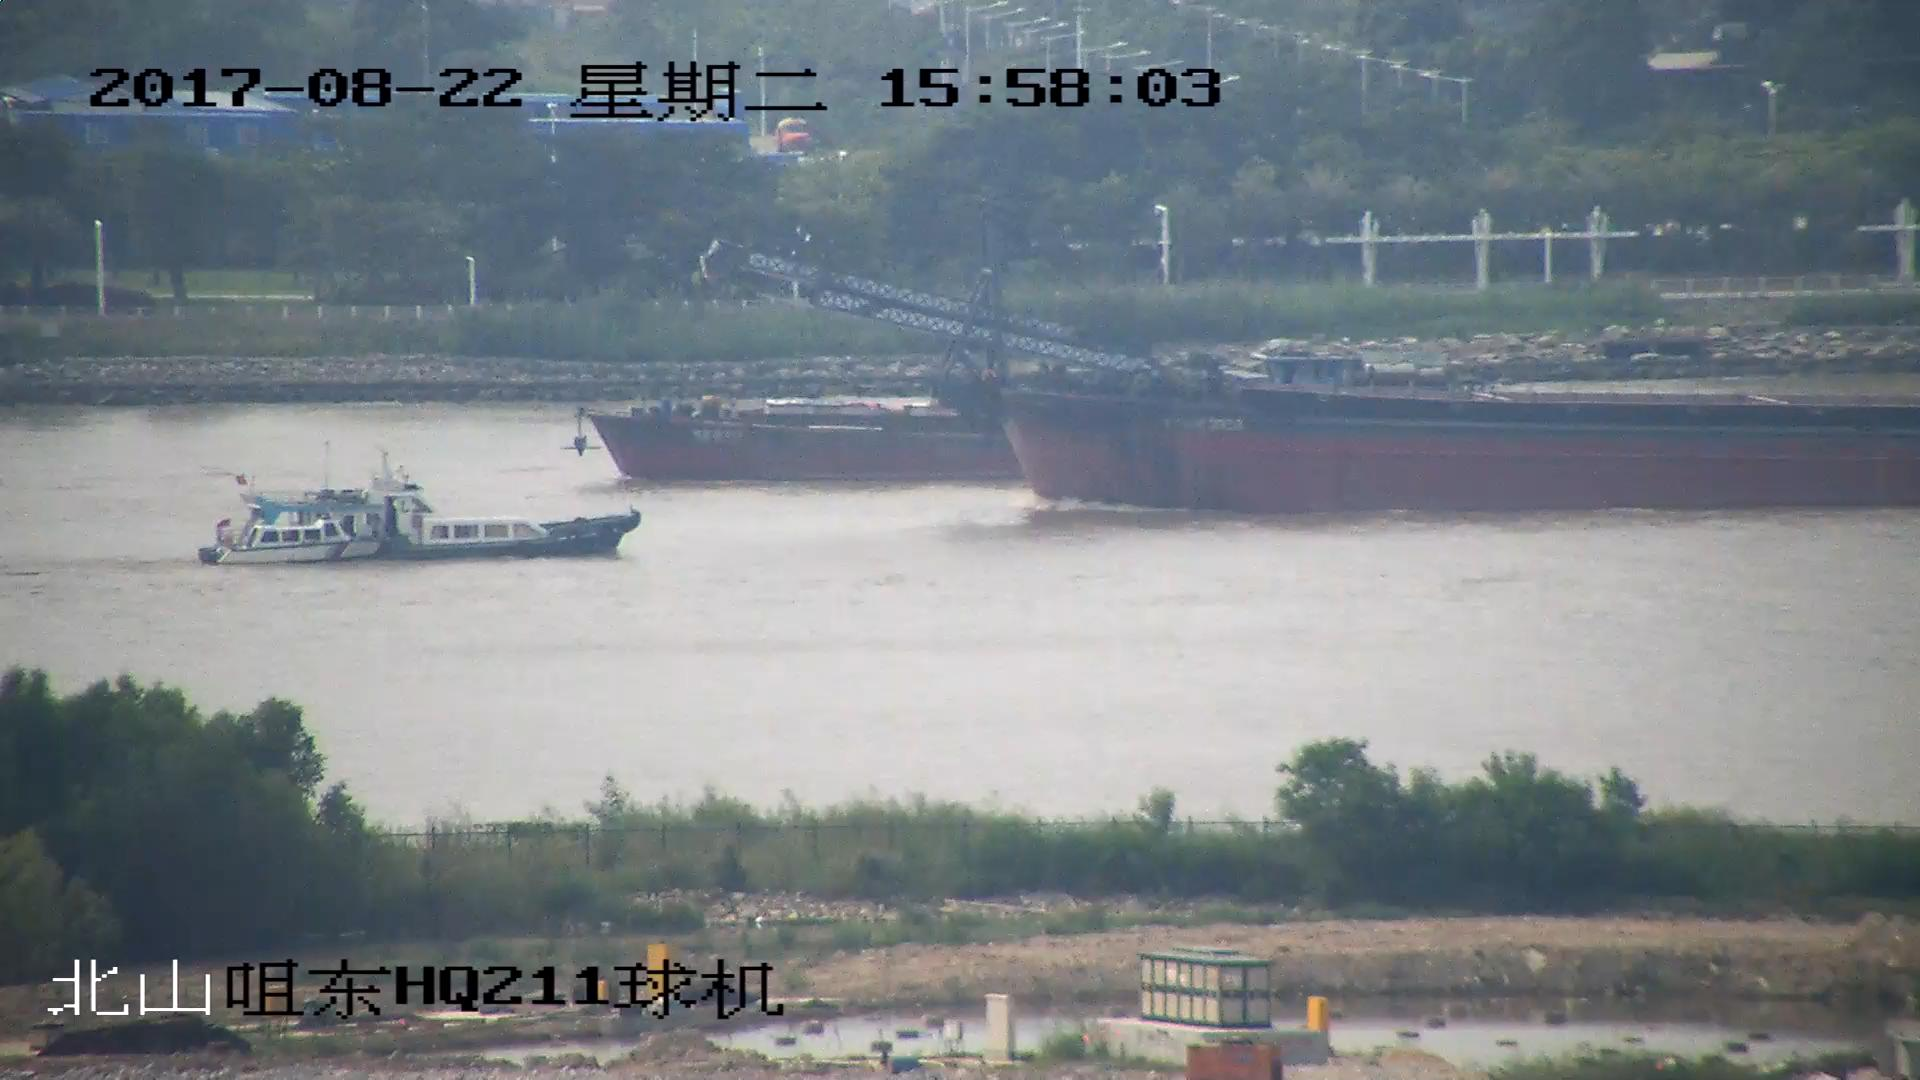bulk cargo carrier: (712, 242, 1920, 513), (570, 393, 1033, 482)
fishing boat: (189, 467, 640, 567)
